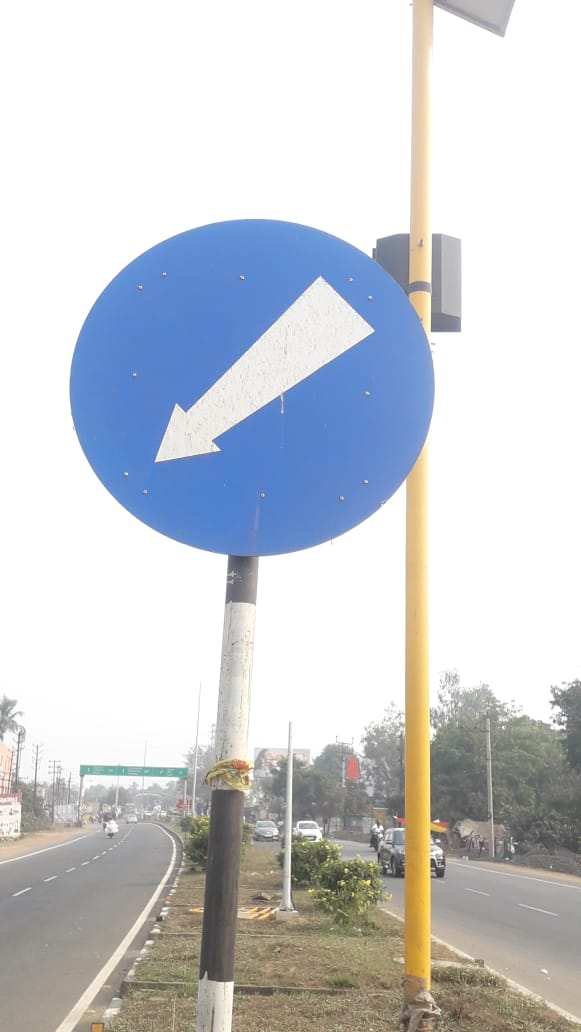go left: (50, 194, 445, 584)
